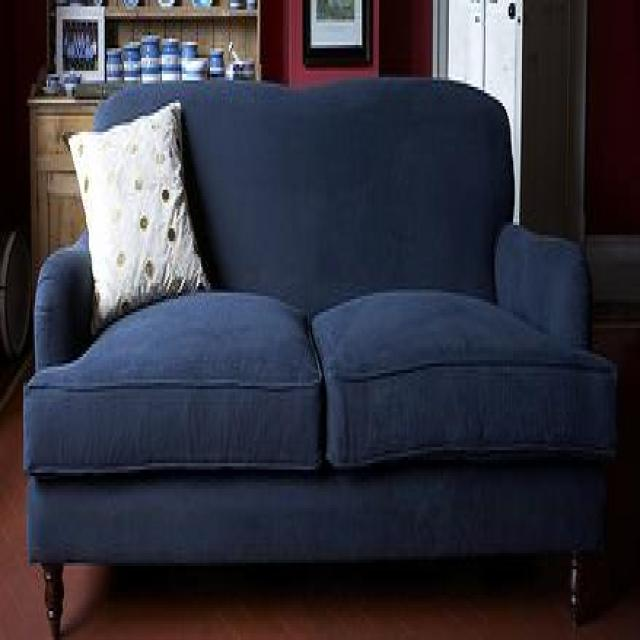sofa: (28, 76, 624, 616)
